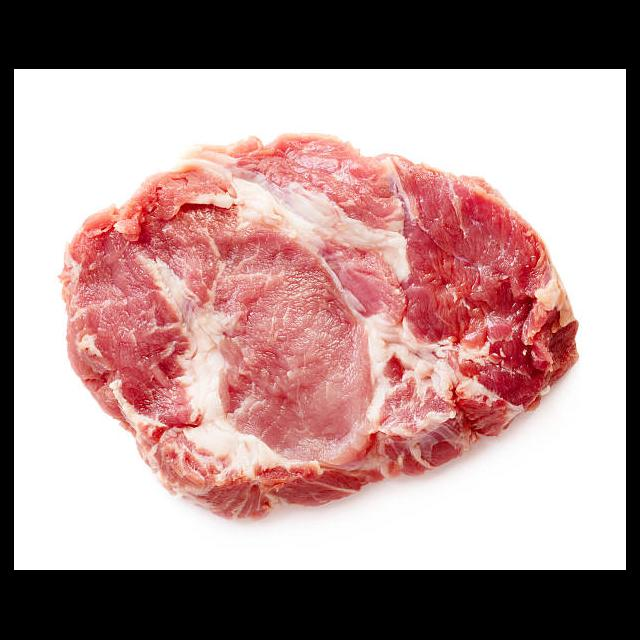beef: (57, 132, 580, 526)
